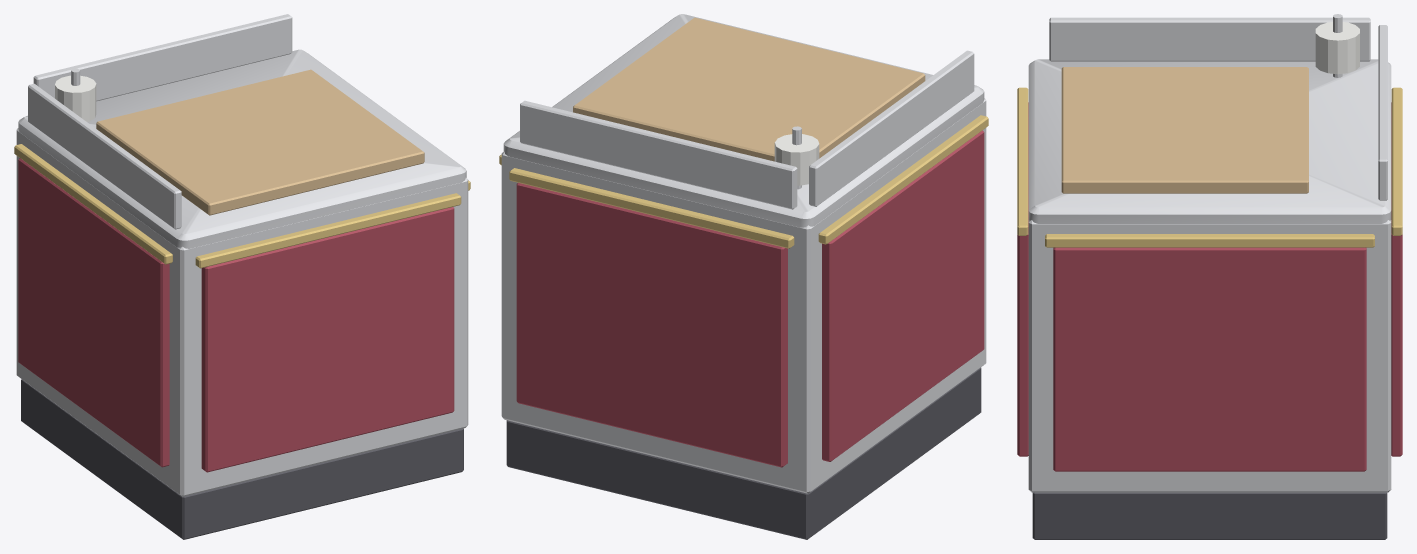
Rendered from butchers-shop-and-deli-counter-counter-corner-module-b0d7666a__34424.glb.
3 renders of one model, left to right at view 1: azimuth 30°, elevation 25°; view 2: azimuth 150°, elevation 25°; view 3: azimuth 270°, elevation 25°, orthographic. The views are drawn at different scales.
Parts seen in each view (by area): view 1: counter-corner-module; view 2: counter-corner-module; view 3: counter-corner-module.
Part boxes in pixels (box(x1,y1,x2,y2)): counter-corner-module: box(14, 14, 470, 539); counter-corner-module: box(499, 14, 988, 539); counter-corner-module: box(1017, 14, 1402, 539).
Bounding box in the file's own units: 0.934 × 1.05 × 0.934.
